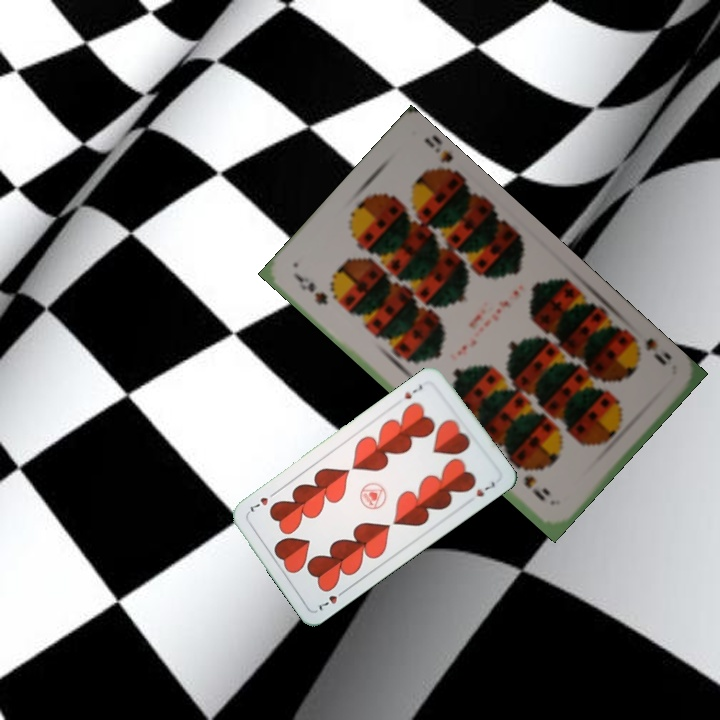H7: (314, 585, 349, 613), (400, 380, 425, 402)
S9: (628, 331, 674, 368), (290, 270, 331, 308)
